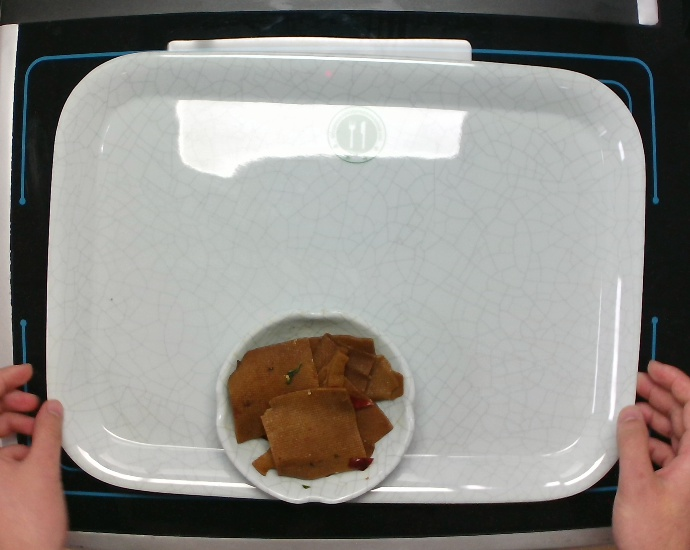JYsf-Ao_Yuan_Wan: (215, 309, 417, 506)
